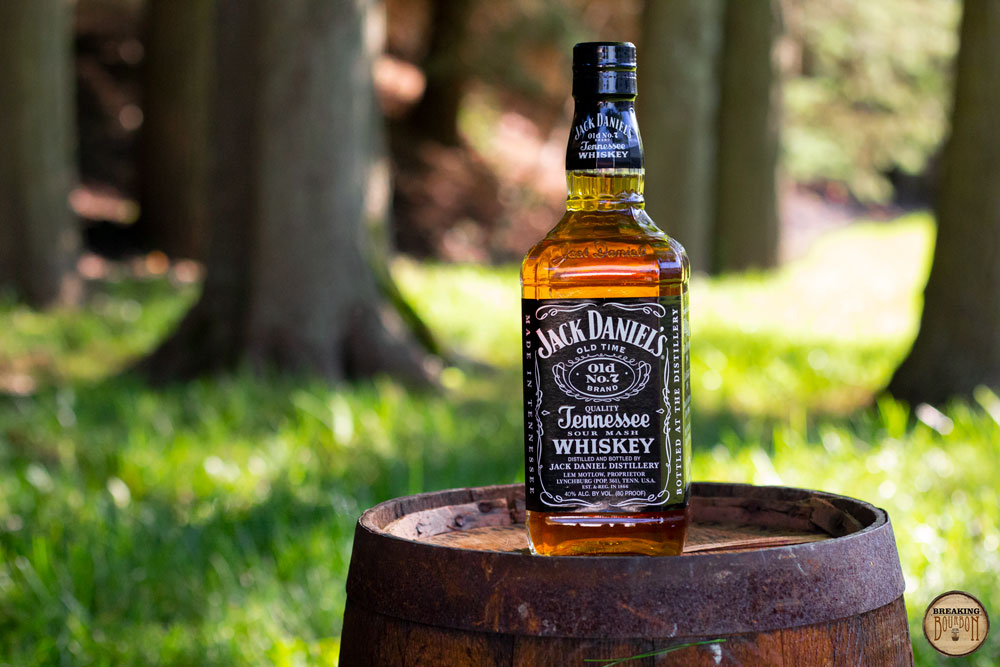Jack Daniel: (503, 30, 706, 581)
